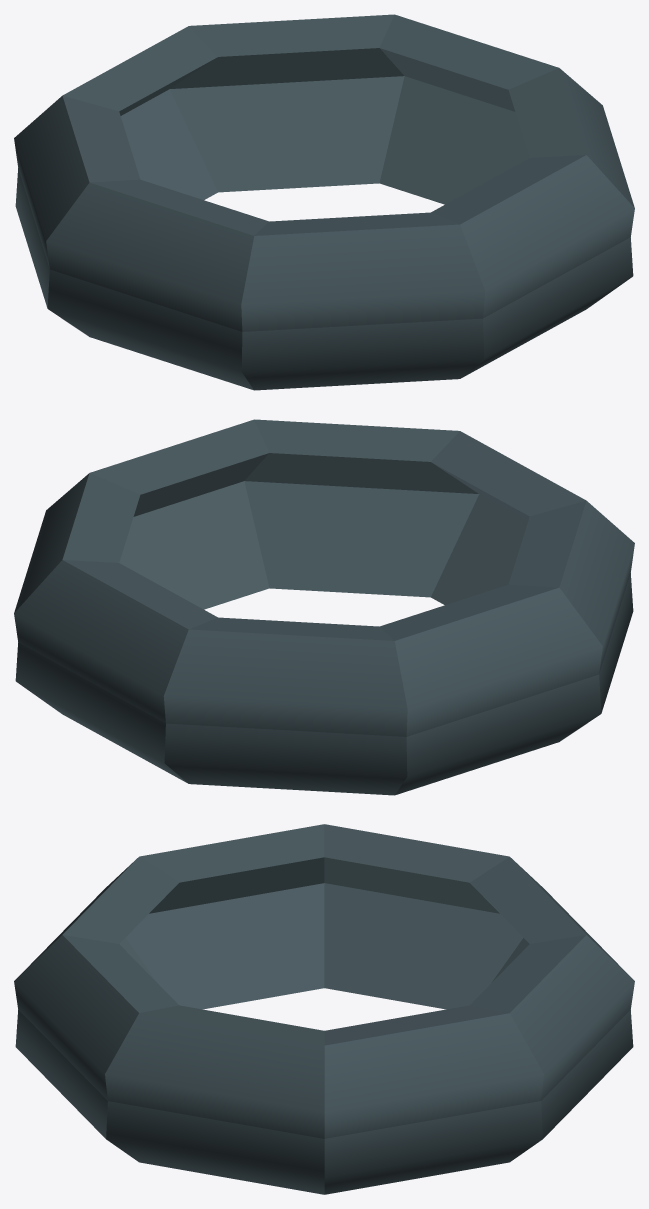
The model's file is empty_tire.fbx.
The picture shows the model from 3 angles, top to bottom: view 1: azimuth 30°, elevation 25°; view 2: azimuth 150°, elevation 25°; view 3: azimuth 270°, elevation 25°; orthographic projection. The views are drawn at different scales.
Visible parts, largest first — view 1: empty_tire; view 2: empty_tire; view 3: empty_tire.
Part boxes in pixels (bbox=[...]): empty_tire: bbox=[14, 14, 634, 390]; empty_tire: bbox=[14, 419, 634, 795]; empty_tire: bbox=[14, 824, 634, 1194].
Bounding box in the file's own units: 2.95 × 0.7832 × 2.95.
